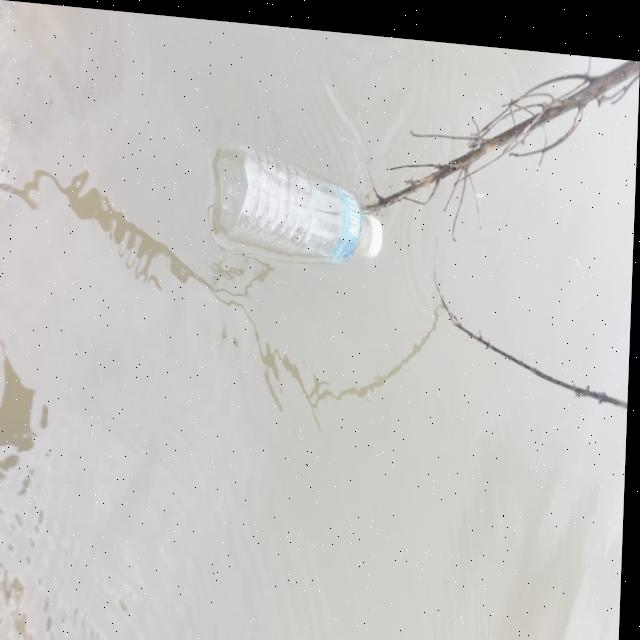waterbottle: (198, 135, 398, 261)
